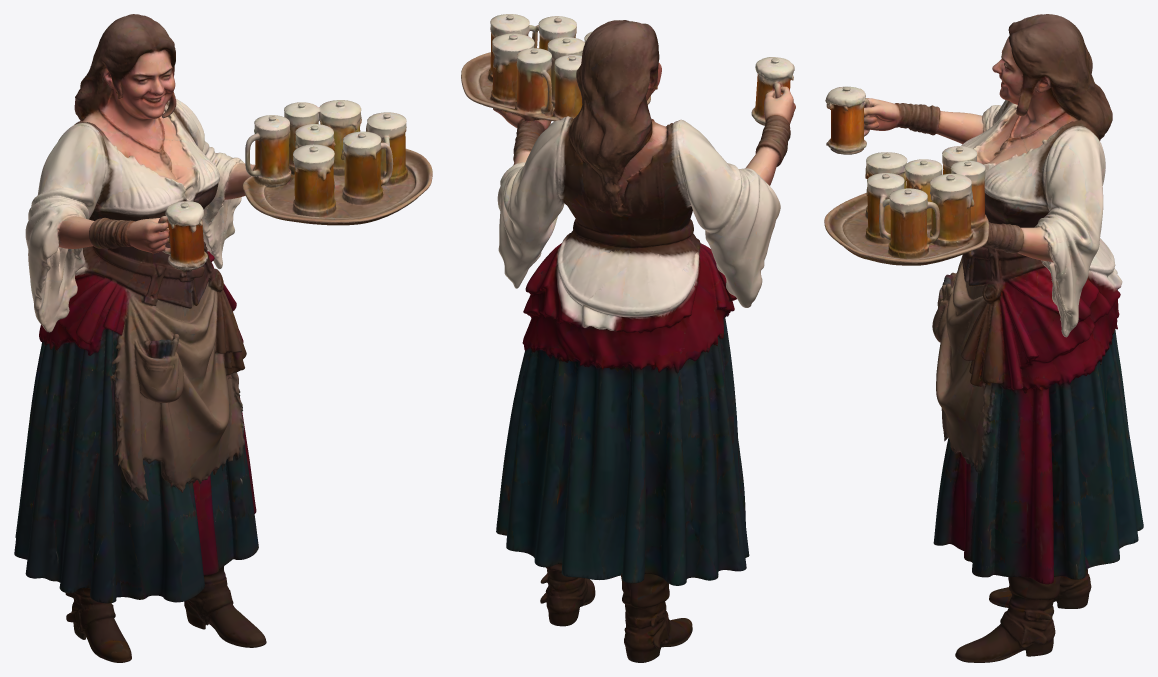
Rendered from barmaid1.glb.
3 views of the same model, side by side, from view 1: azimuth 30°, elevation 25°; view 2: azimuth 150°, elevation 25°; view 3: azimuth 270°, elevation 25° (orthographic). The views are drawn at different scales.
Size of the model in its own units: 1.13 by 1.9 by 0.9112.
1 material, 1 textured.
